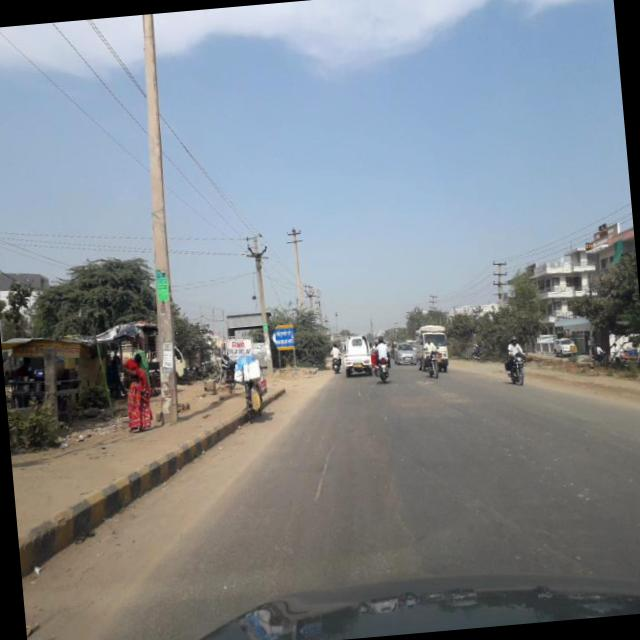crack: (306, 435, 338, 505)
